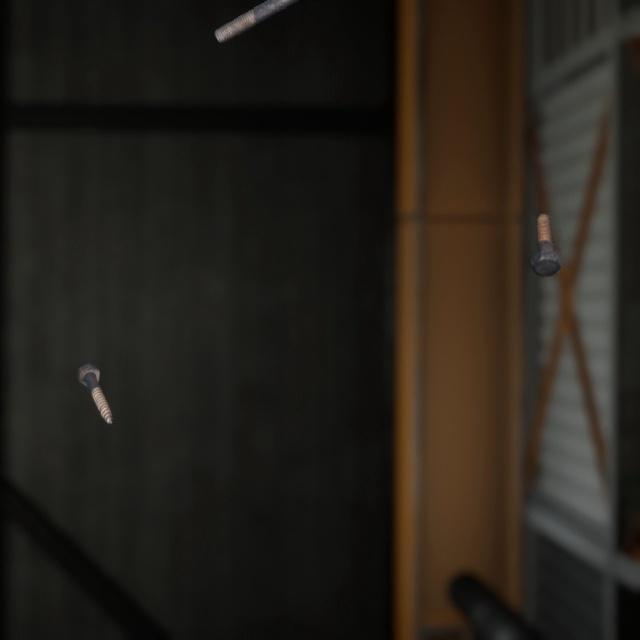bolt: (209, 0, 291, 40), (73, 340, 117, 408), (526, 193, 565, 264)
